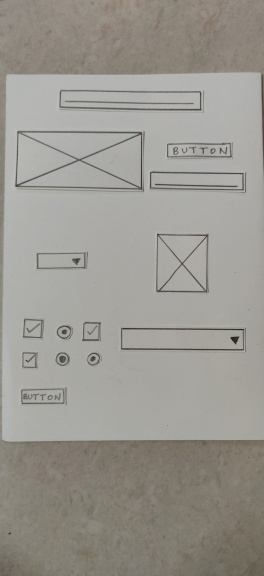button: (163, 140, 235, 161), (17, 385, 71, 408)
checkbox: (18, 315, 46, 342), (78, 318, 105, 346), (18, 349, 41, 372)
dropdown: (115, 323, 249, 356), (33, 249, 91, 273)
img: (13, 127, 146, 194), (152, 230, 212, 297)
radio: (53, 321, 75, 342), (52, 349, 73, 370), (83, 350, 104, 370)
text: (54, 87, 205, 115), (146, 168, 250, 195)
